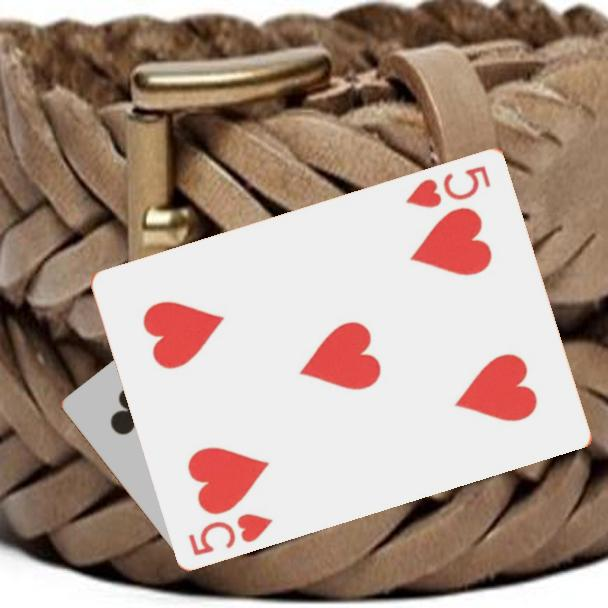h05: (184, 509, 276, 559), (402, 161, 494, 210)
